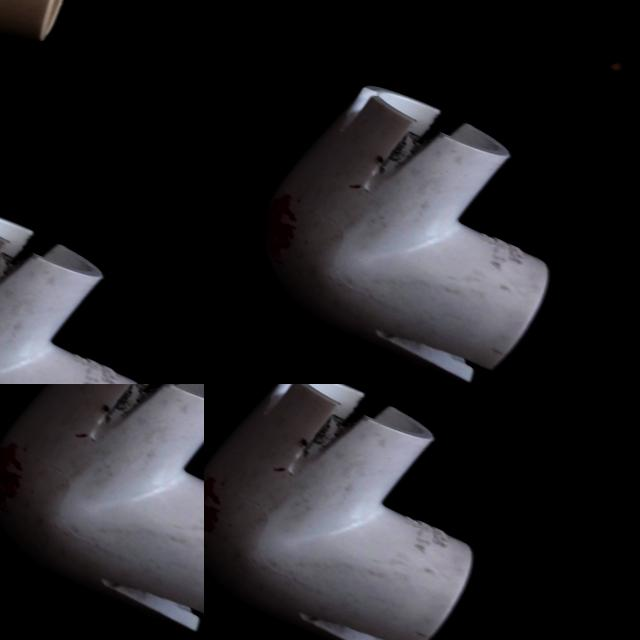Defective: (300, 384, 399, 463), (305, 599, 408, 640), (204, 480, 227, 548)
L Joint: (204, 384, 485, 640)
